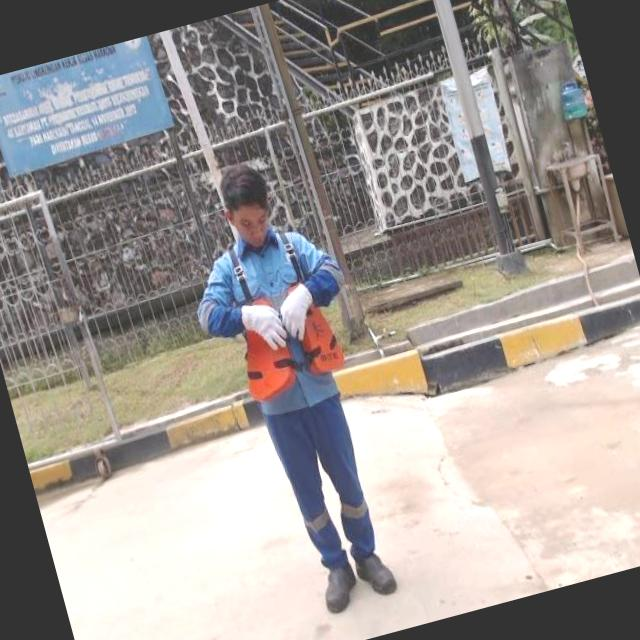vest: (196, 220, 360, 414)
